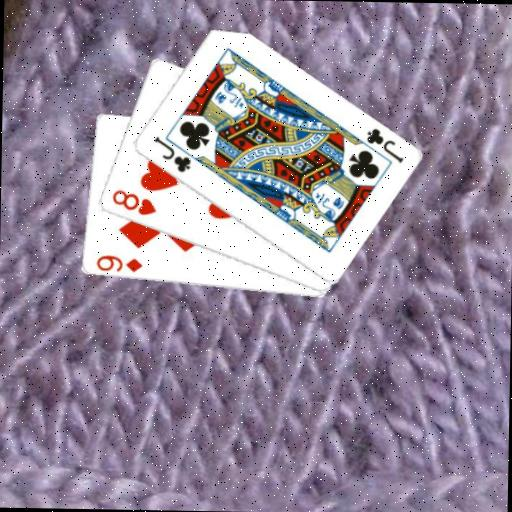8H: (108, 187, 158, 218)
9D: (93, 253, 144, 274)
JC: (150, 134, 193, 175), (363, 125, 406, 166)
